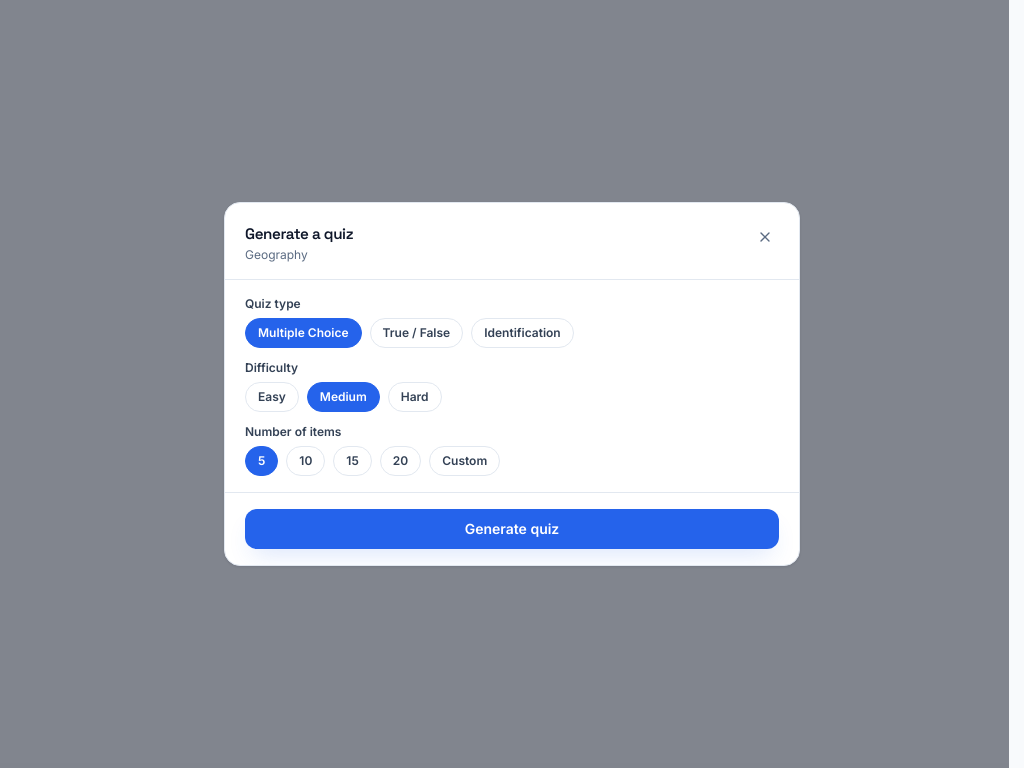
Test case: QuizRunner — resumable formal quiz › opens a fresh quiz by generating it then starting an attempt
What coordinates should you click on to do the following:
click the button "Generate quiz"
I would click on:
 (512, 529)
Its box is [245,509,779,549].
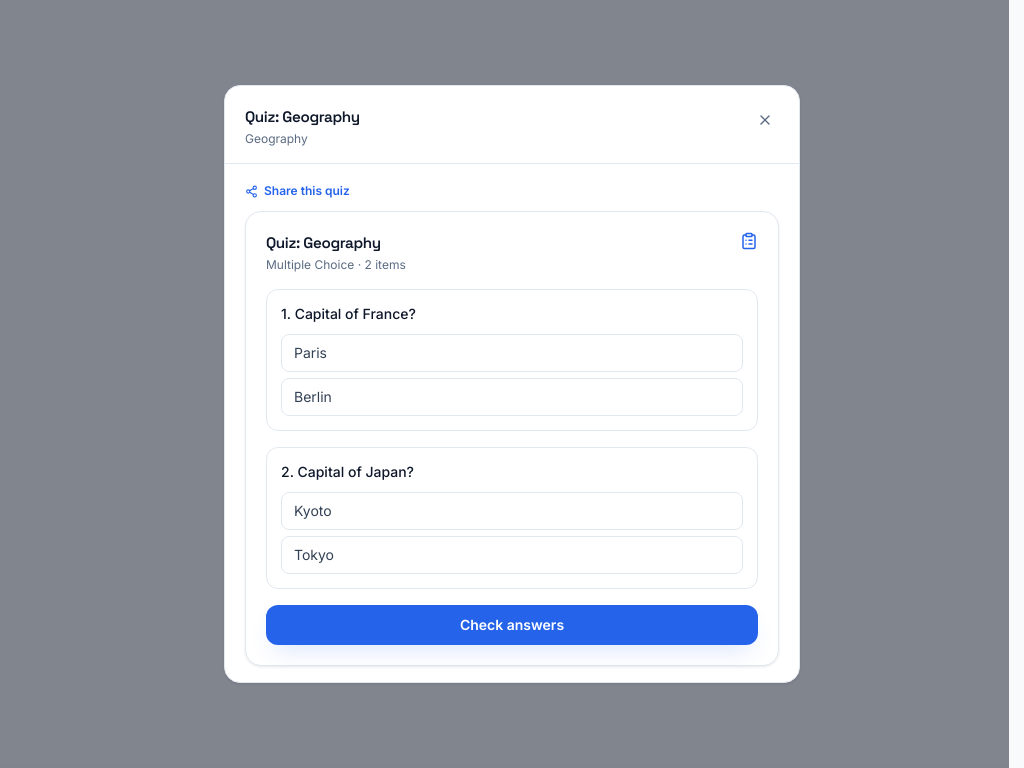
Expected: the text "1. Capital of France?" is shown, [281,305,416,322]
